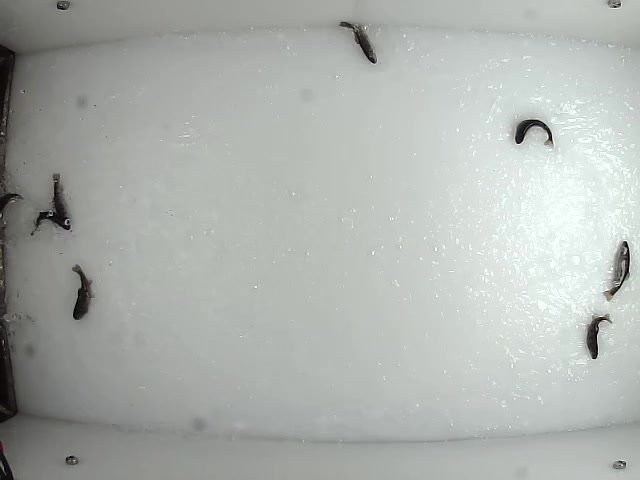fish: (599, 239, 633, 302), (336, 19, 379, 64), (49, 171, 75, 234), (70, 261, 95, 321), (584, 311, 613, 361), (27, 208, 71, 239), (512, 118, 556, 148)
